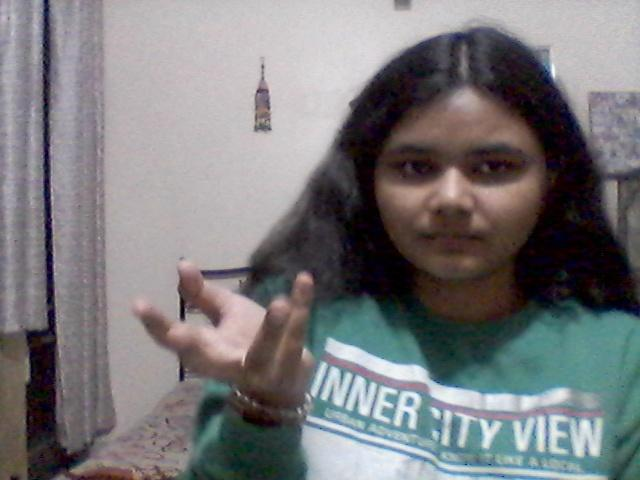what: (134, 254, 324, 399)
